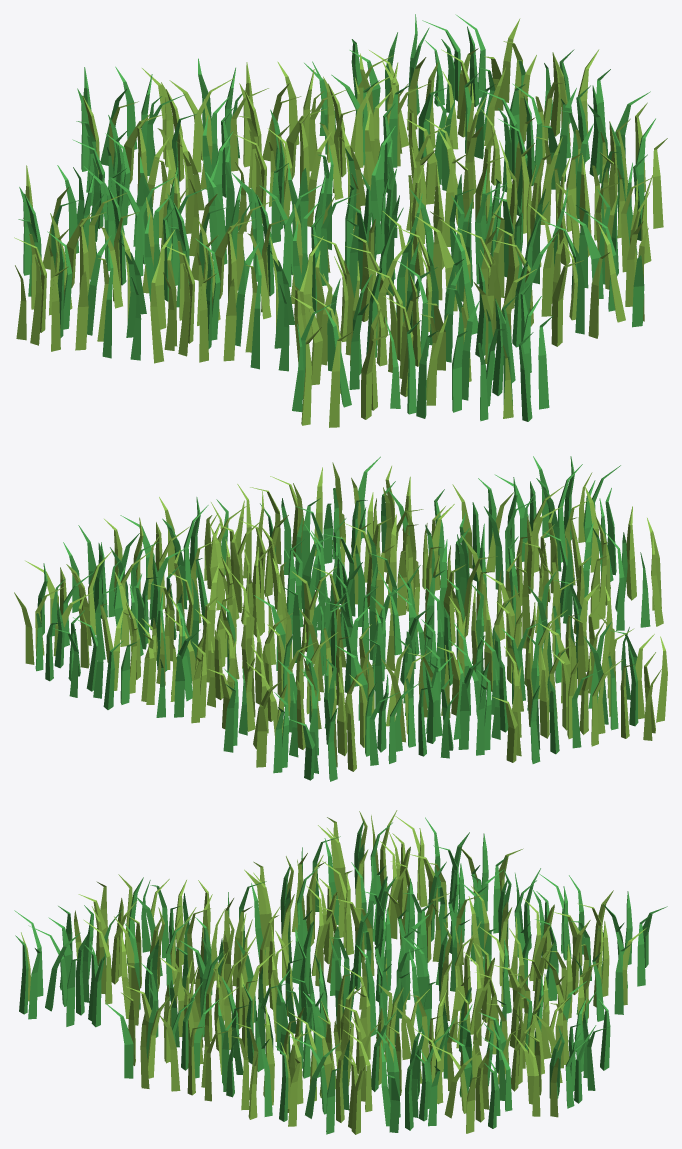
The model's file is GrassPatchShort.glb.
The picture shows the model from 3 angles, top to bottom: view 1: azimuth 30°, elevation 25°; view 2: azimuth 150°, elevation 25°; view 3: azimuth 270°, elevation 25°; orthographic projection. The views are drawn at different scales.
Parts seen in each view (by area): view 1: Node; view 2: Node; view 3: Node.
Part boxes in pixels (left/top/right/bottom): Node: left=14, top=14, right=667, bottom=427; Node: left=14, top=456, right=667, bottom=781; Node: left=14, top=810, right=667, bottom=1134.
Size of the model in its own units: 2.78 by 0.4857 by 2.84.
